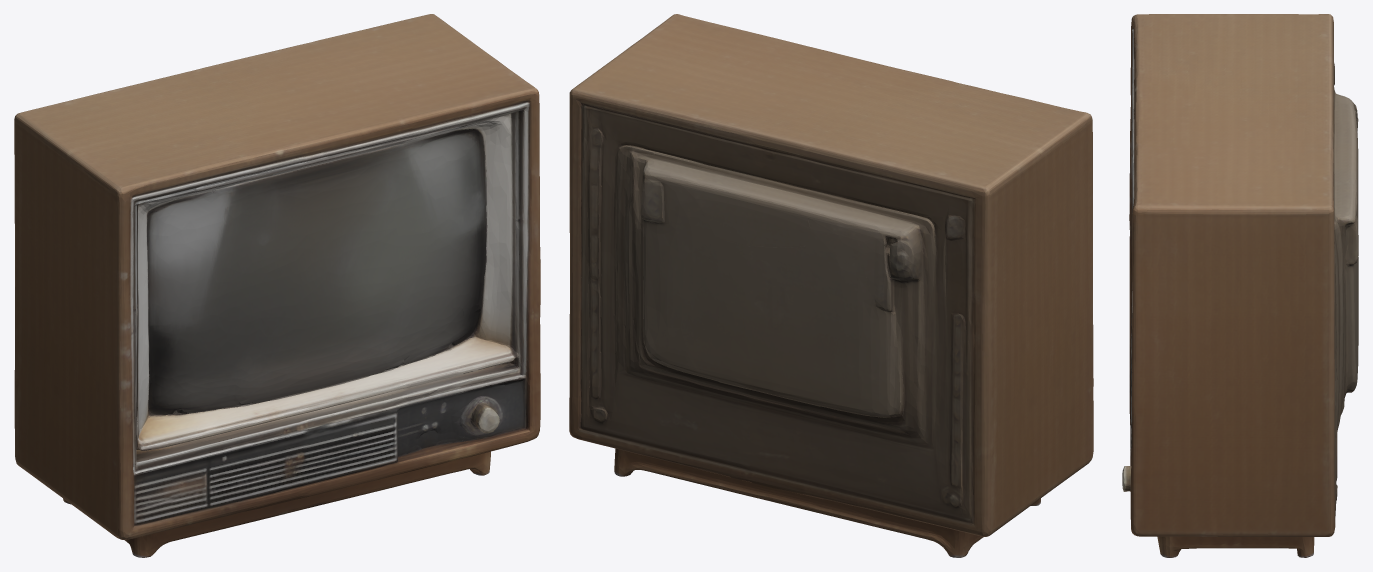
The model's file is CaiTivi.glb.
3 renders of one model, left to right at view 1: azimuth 30°, elevation 25°; view 2: azimuth 150°, elevation 25°; view 3: azimuth 270°, elevation 25°, orthographic. The views are drawn at different scales.
Parts seen in each view (by area): view 1: world; view 2: world; view 3: world.
Part boxes in pixels (<box>): world: <box>14,14,540,557</box>; world: <box>569,14,1093,557</box>; world: <box>1122,14,1358,557</box>.
Size of the model in its own units: 1 by 0.8796 by 0.5138.
Materials: 1 (1 with a texture image).
